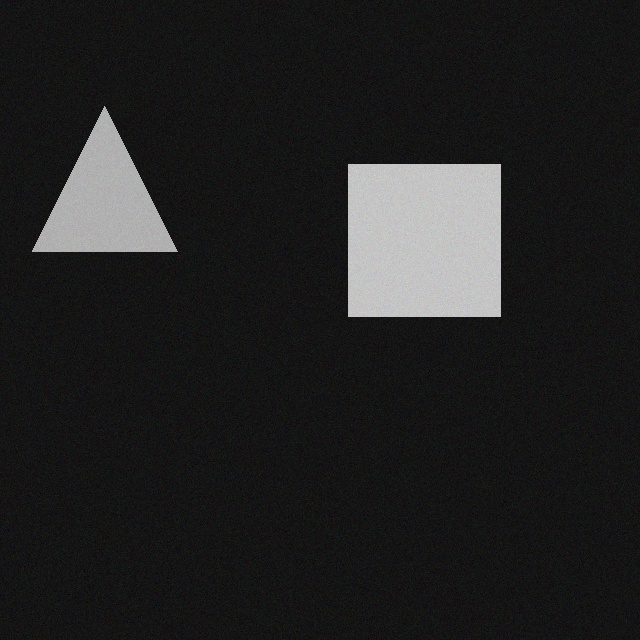square: (351, 175, 503, 327)
triangle: (35, 117, 180, 262)
